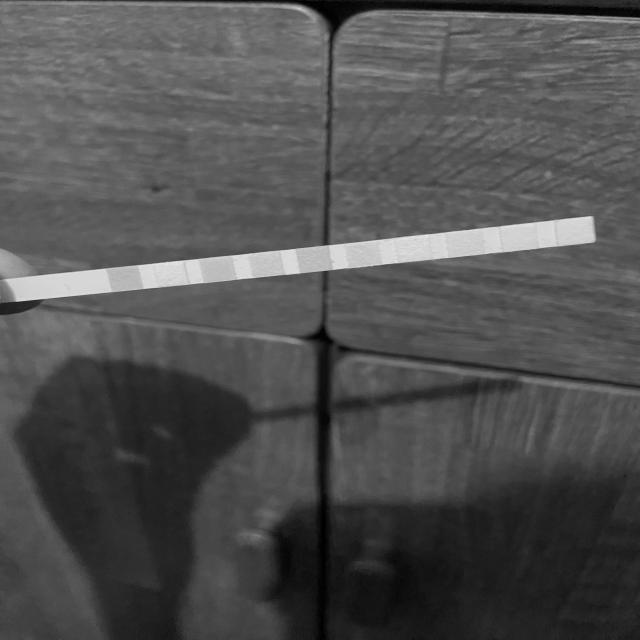Bilirubin: (158, 264, 184, 286)
Blood: (302, 248, 329, 271)
Glucose: (112, 268, 138, 290)
Ketone: (205, 258, 232, 280)
Leukocytes: (559, 220, 593, 242)
Nitrite: (503, 226, 535, 249)
Protein: (398, 238, 428, 260)
SpGravity: (251, 254, 280, 273)
Urobilinogen: (449, 232, 482, 255)
background: (0, 0, 640, 640)
pH: (349, 243, 378, 266)
strip: (16, 216, 596, 302)
